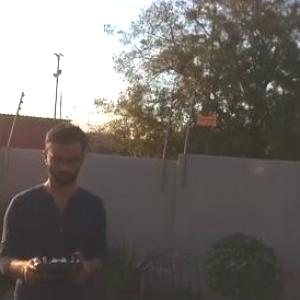follow: (0, 114, 114, 299)
